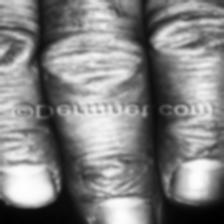Non-Cancerous Skin Condition: (77, 152, 154, 206), (166, 120, 224, 168), (1, 132, 48, 170)
